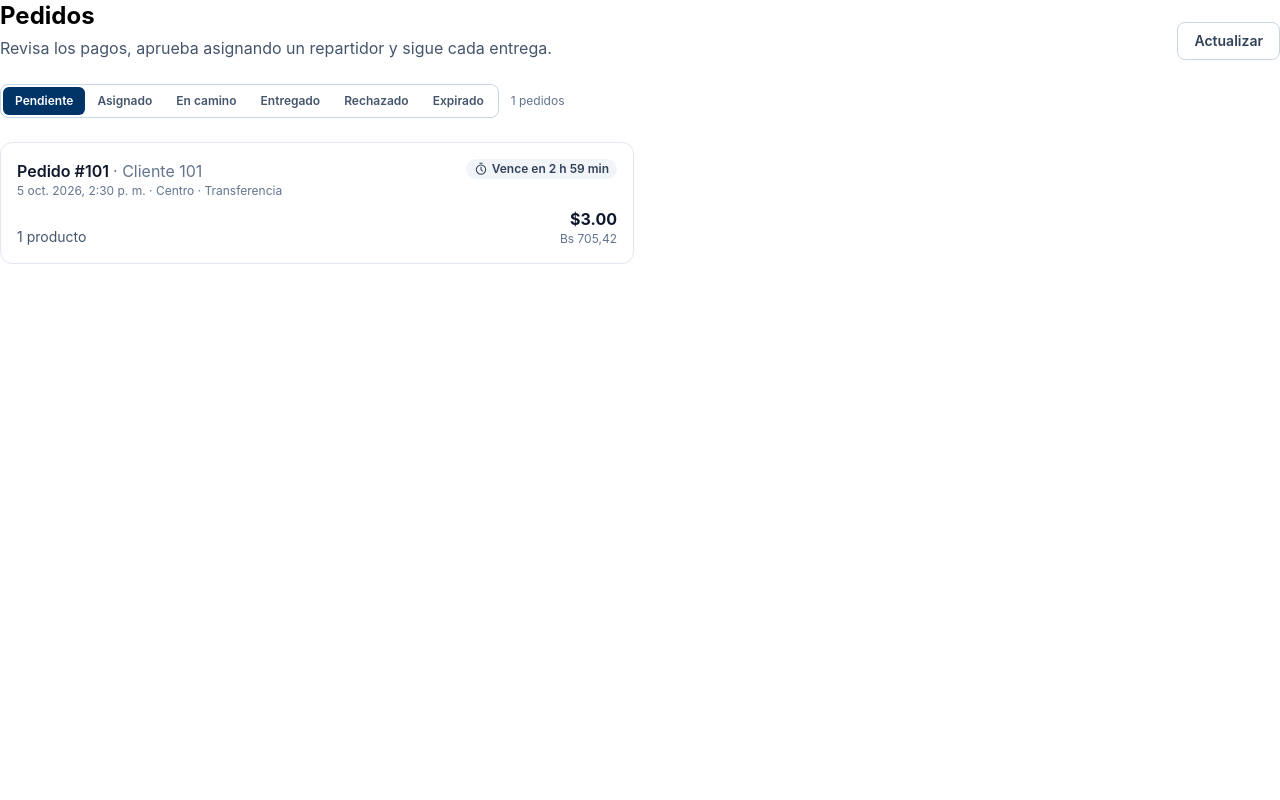
Test: Pedidos: aprobar › exige elegir un repartidor antes de aprobar
Click the button "Pedido #101" at [51, 171], box [0, 142, 634, 264]
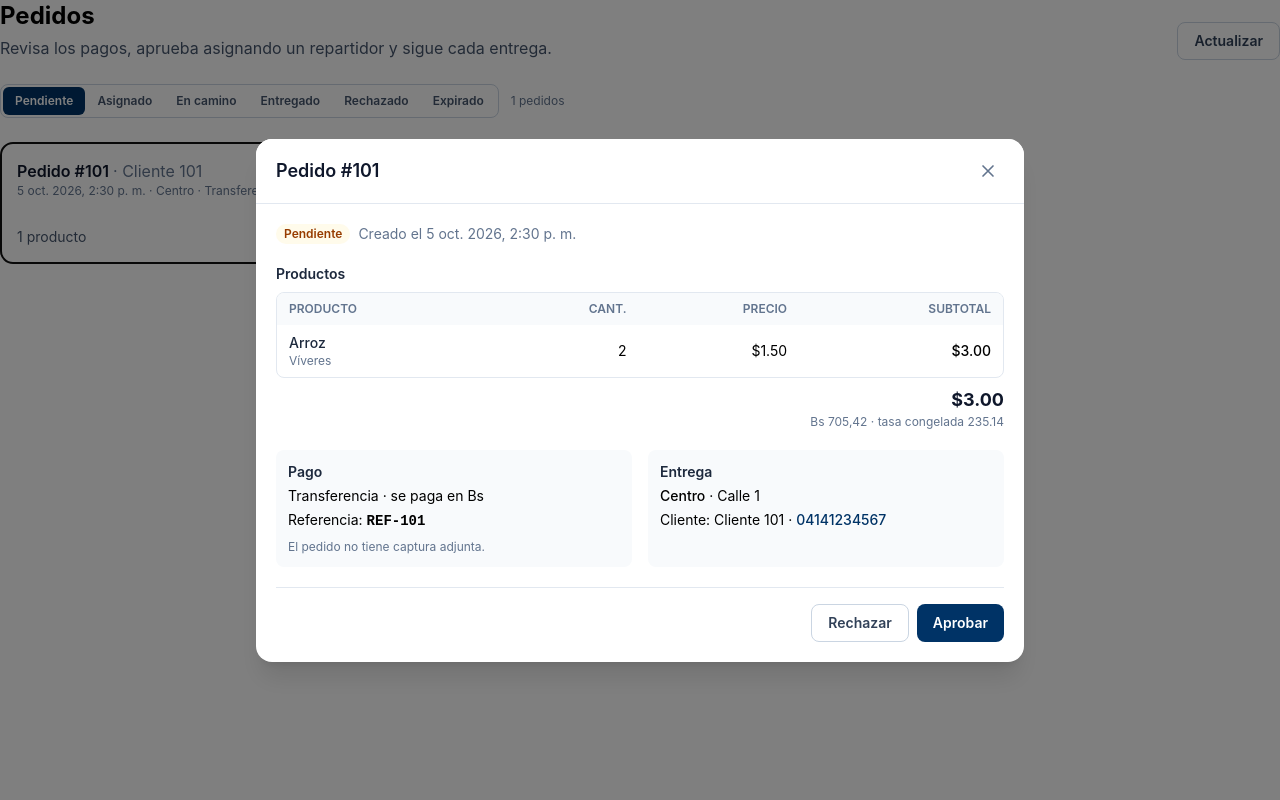
Click the button "Aprobar" at [960, 622], box [917, 604, 1004, 642]
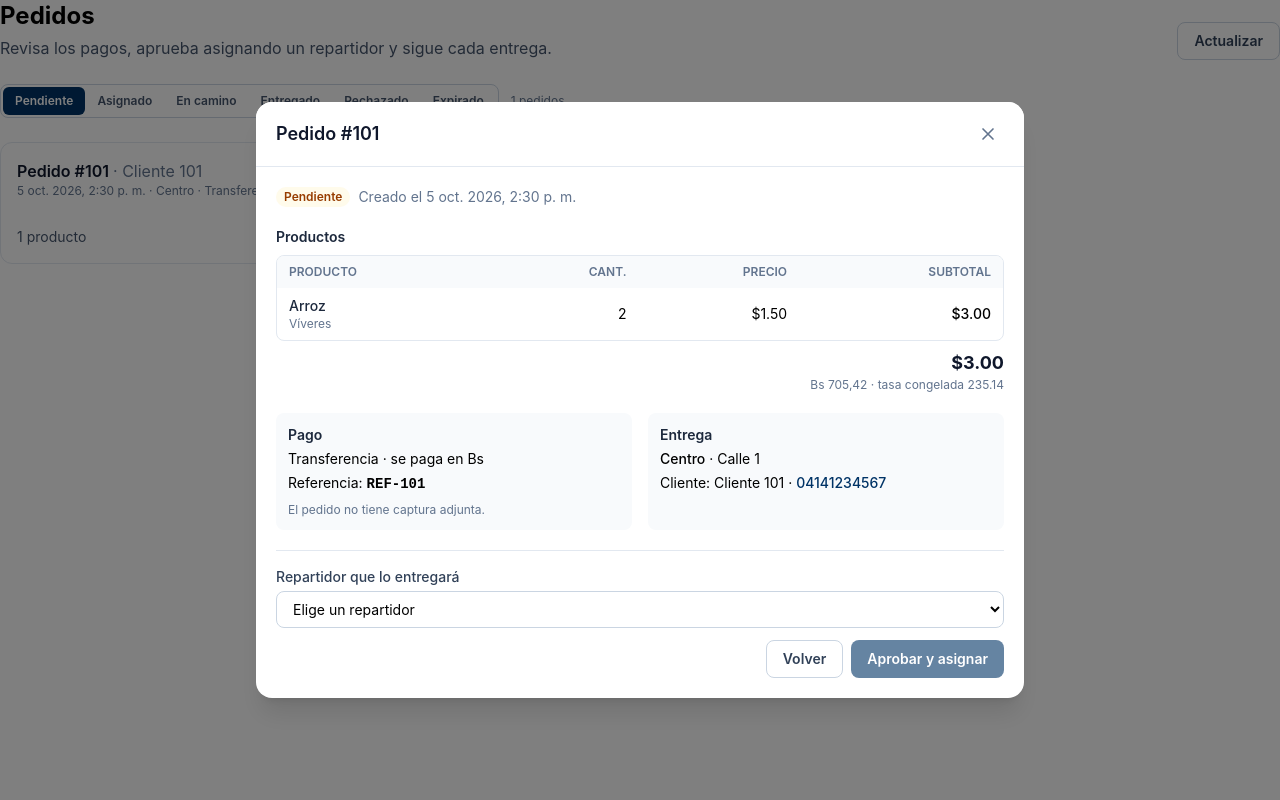
Result: the button "Aprobar y asignar" is disabled at [851, 640, 1004, 678]
